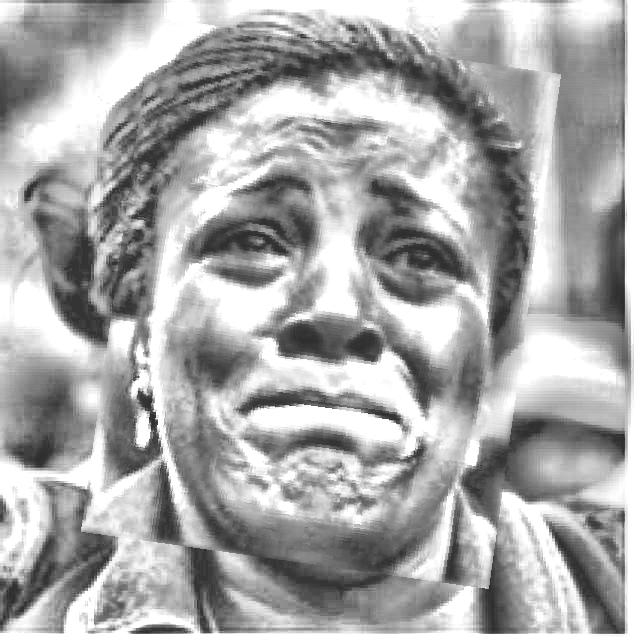sad: (98, 30, 544, 576)
